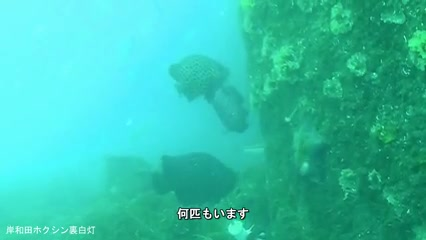smallfish: (161, 53, 231, 103)
